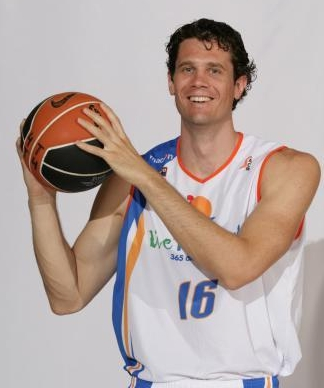basketball: (20, 92, 114, 191)
